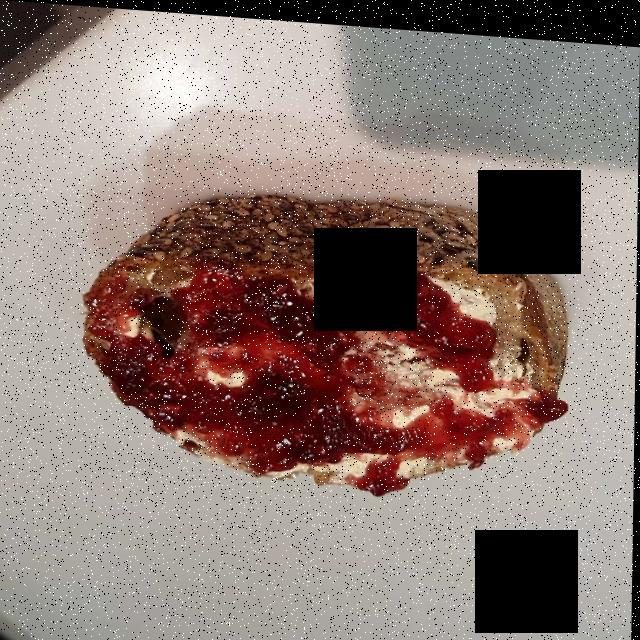bread-wholemeal: (90, 193, 564, 482)
jam: (95, 259, 545, 480)
